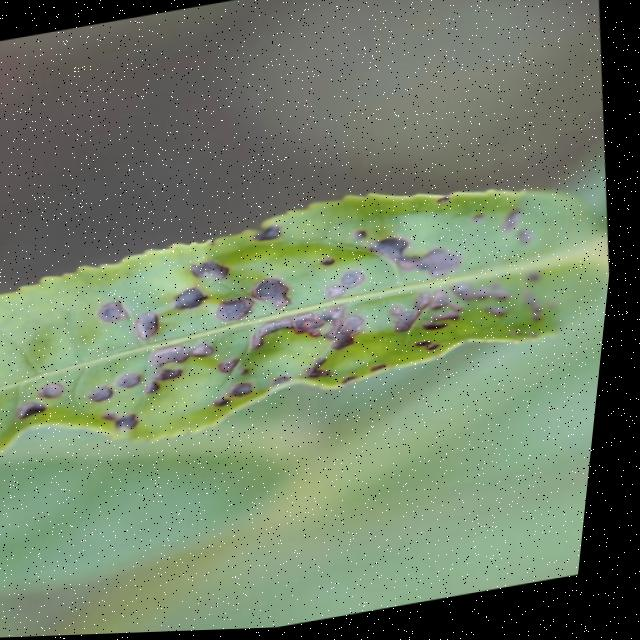Tea red scab: (0, 182, 575, 470)
